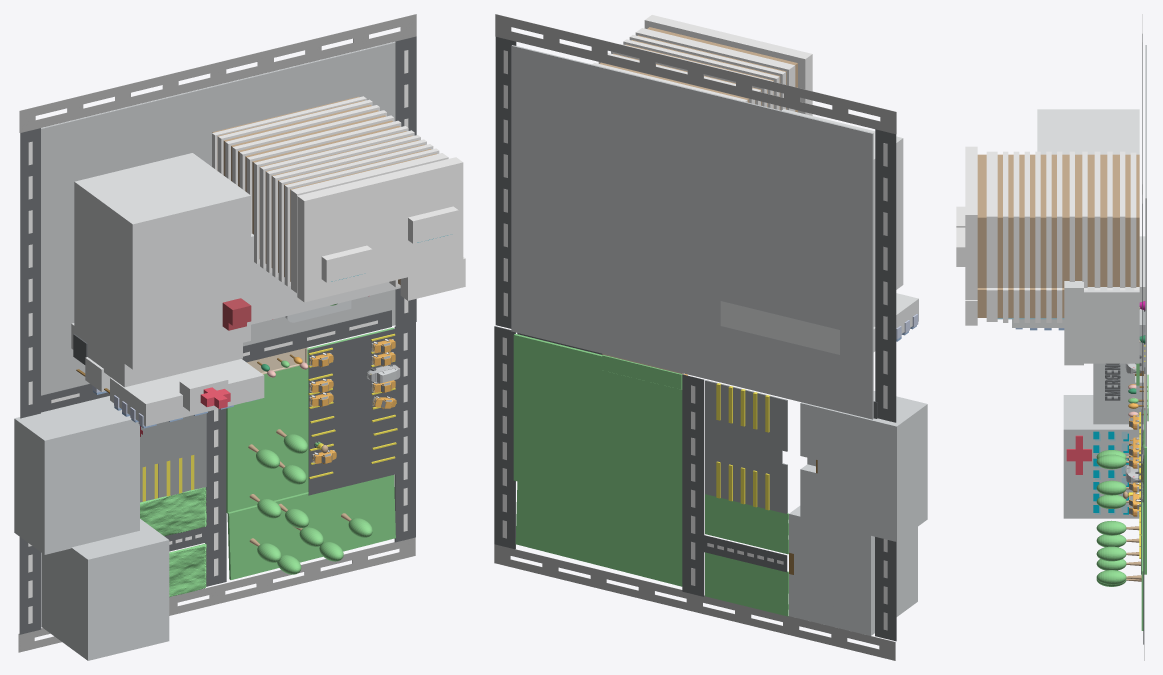
File: Hospital.glb
3 renders of one model, left to right at view 1: azimuth 30°, elevation 25°; view 2: azimuth 150°, elevation 25°; view 3: azimuth 270°, elevation 25°, orthographic. The views are drawn at different scales.
Parts seen in each view (by area): view 1: group_0_14541540, group_0_16448250, group_0_12568524, group_0_2829873, group_0_10988977, group_0_4634441, group_0_0, group_0_11107152, group_0_6383466, group_0_16089887, group_0_16768282, group_0_9771553 (+1 smaller); view 2: group_0_10988977, group_0_4634441, group_0_12568524, group_0_2829873, group_0_0, group_0_16448250, group_0_6383466, group_0_14541540, group_0_16768282, group_0_11107152; view 3: group_0_16448250, group_0_11107152, group_0_14541540, group_0_12568524, group_0_4634441, group_0_2829873, group_0_10988977, group_0_16089887, group_0_40919, group_0_8768998, group_0_15277357, group_0_6383466 (+1 smaller).
Boxes of the visible parts, x1=… form: group_0_14541540: x1=71, y1=153, x2=400, y2=426; group_0_16448250: x1=28, y1=50, x2=465, y2=623; group_0_12568524: x1=14, y1=300, x2=394, y2=660; group_0_2829873: x1=19, y1=36, x2=416, y2=634; group_0_10988977: x1=41, y1=41, x2=400, y2=395; group_0_4634441: x1=140, y1=303, x2=395, y2=597; group_0_0: x1=18, y1=14, x2=416, y2=652; group_0_11107152: x1=212, y1=96, x2=436, y2=546; group_0_6383466: x1=140, y1=342, x2=396, y2=502; group_0_16089887: x1=293, y1=339, x2=396, y2=464; group_0_16768282: x1=142, y1=333, x2=397, y2=501; group_0_9771553: x1=222, y1=298, x2=251, y2=330; group_0_10988977: x1=511, y1=45, x2=873, y2=419; group_0_4634441: x1=513, y1=334, x2=788, y2=616; group_0_12568524: x1=789, y1=391, x2=927, y2=635; group_0_2829873: x1=494, y1=37, x2=896, y2=641; group_0_0: x1=494, y1=14, x2=896, y2=660; group_0_16448250: x1=502, y1=15, x2=887, y2=630; group_0_6383466: x1=705, y1=380, x2=787, y2=513; group_0_14541540: x1=720, y1=109, x2=918, y2=354; group_0_16768282: x1=716, y1=383, x2=769, y2=510; group_0_11107152: x1=599, y1=27, x2=797, y2=112; group_0_16448250: x1=956, y1=146, x2=1140, y2=500; group_0_11107152: x1=977, y1=154, x2=1141, y2=581; group_0_14541540: x1=1012, y1=109, x2=1145, y2=365; group_0_12568524: x1=1063, y1=309, x2=1145, y2=518; group_0_4634441: x1=1096, y1=363, x2=1148, y2=630; group_0_2829873: x1=1105, y1=34, x2=1145, y2=644; group_0_10988977: x1=1125, y1=45, x2=1146, y2=482; group_0_16089887: x1=1128, y1=384, x2=1139, y2=516; group_0_40919: x1=1093, y1=431, x2=1128, y2=514; group_0_8768998: x1=997, y1=318, x2=1127, y2=514; group_0_15277357: x1=1066, y1=367, x2=1134, y2=477; group_0_6383466: x1=1129, y1=332, x2=1145, y2=514.
Bounding box in the file's own units: 151 × 196 × 71.67.
